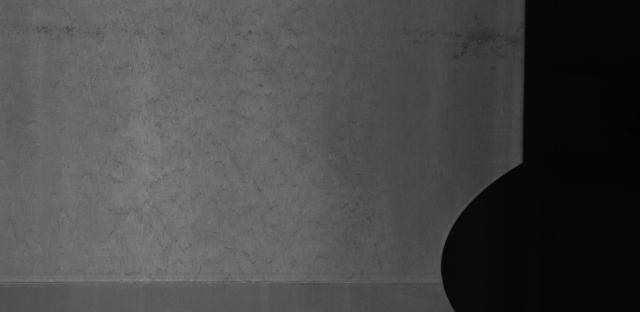crescent_gap: (418, 149, 540, 312)
welding_line: (3, 270, 469, 296)
